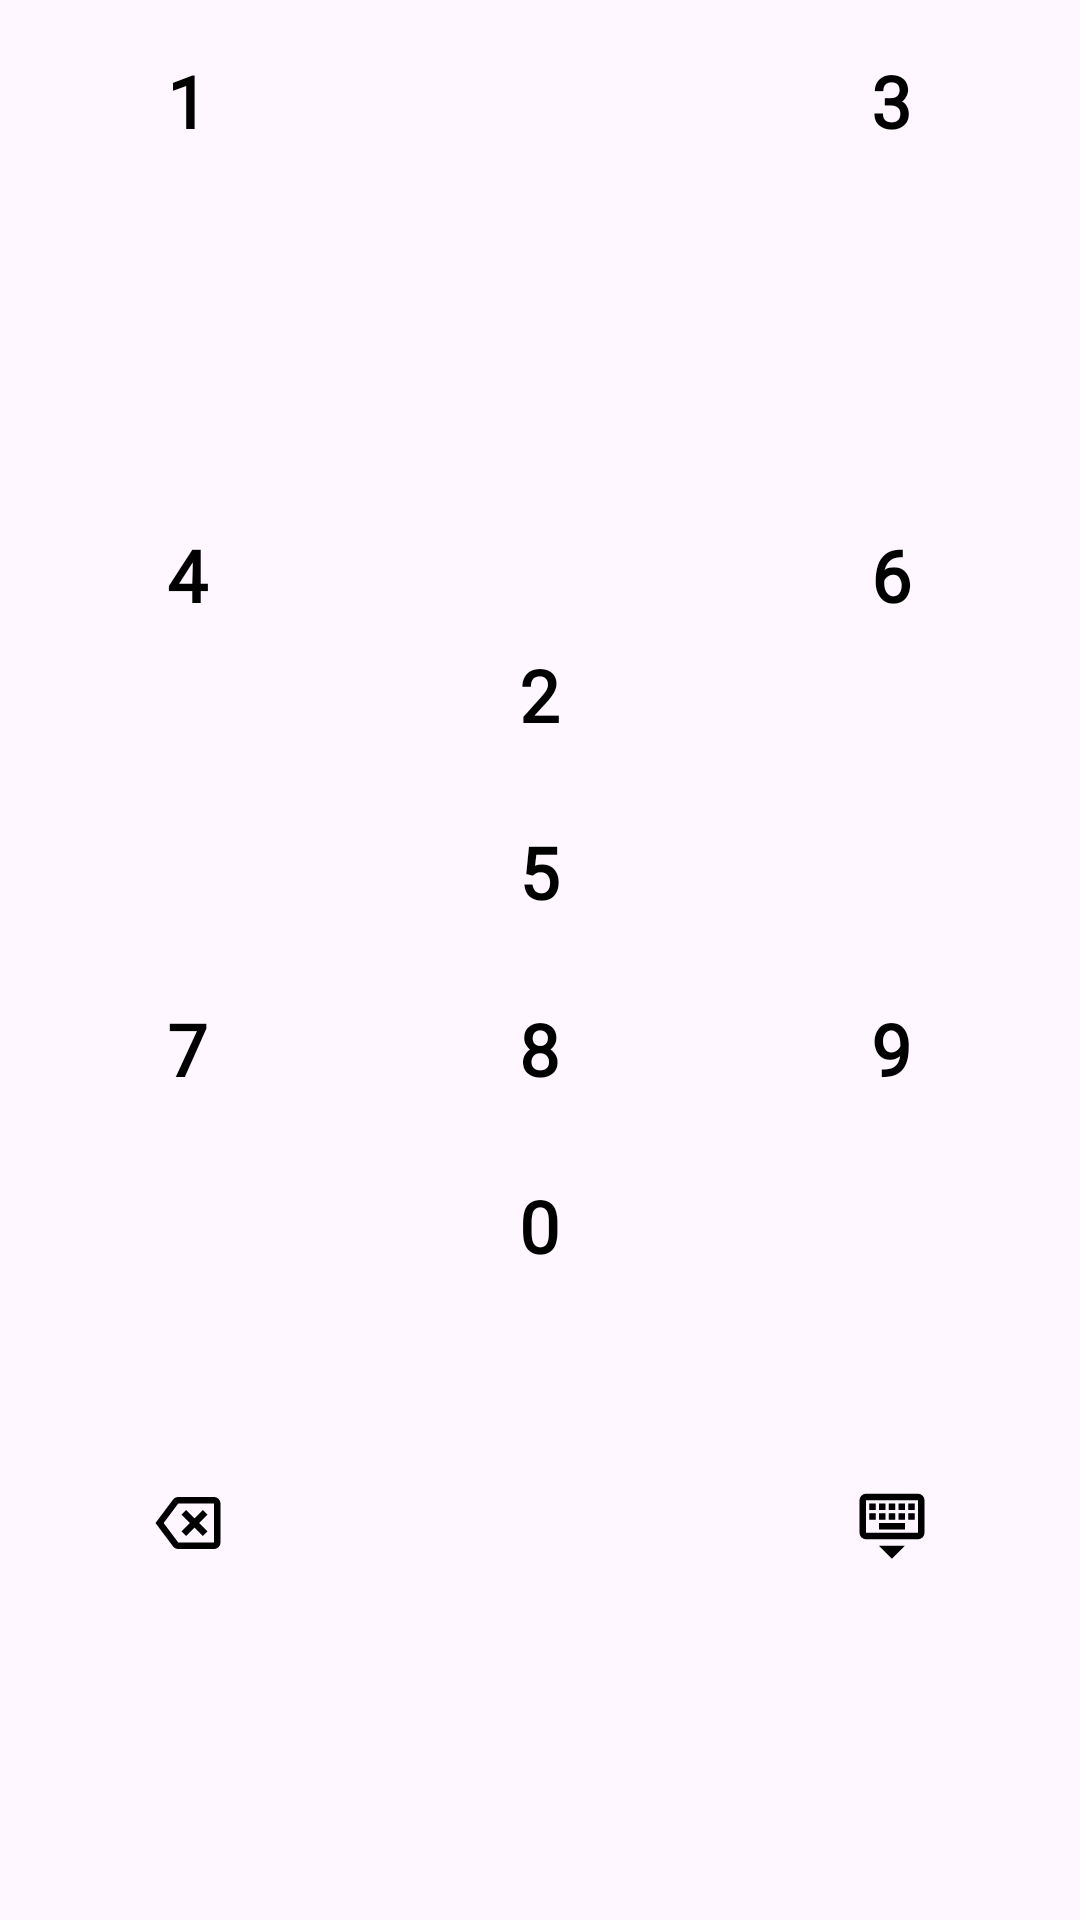

Icons on this 1080px×1920px Android screen, each with its box as (x1=x1, y1=y1, x2=x2, y2=y2):
backspace: (x1=155, y1=1497, x2=221, y2=1549)
keyboard hide: (x1=859, y1=1493, x2=925, y2=1559)
